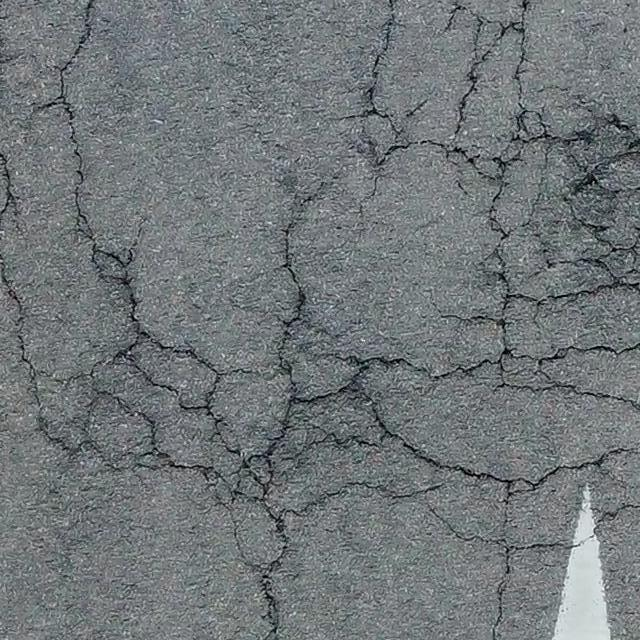GRIETA: (260, 534, 289, 639), (491, 549, 511, 639)
PIEL DE COCODRILO: (0, 0, 639, 559)
